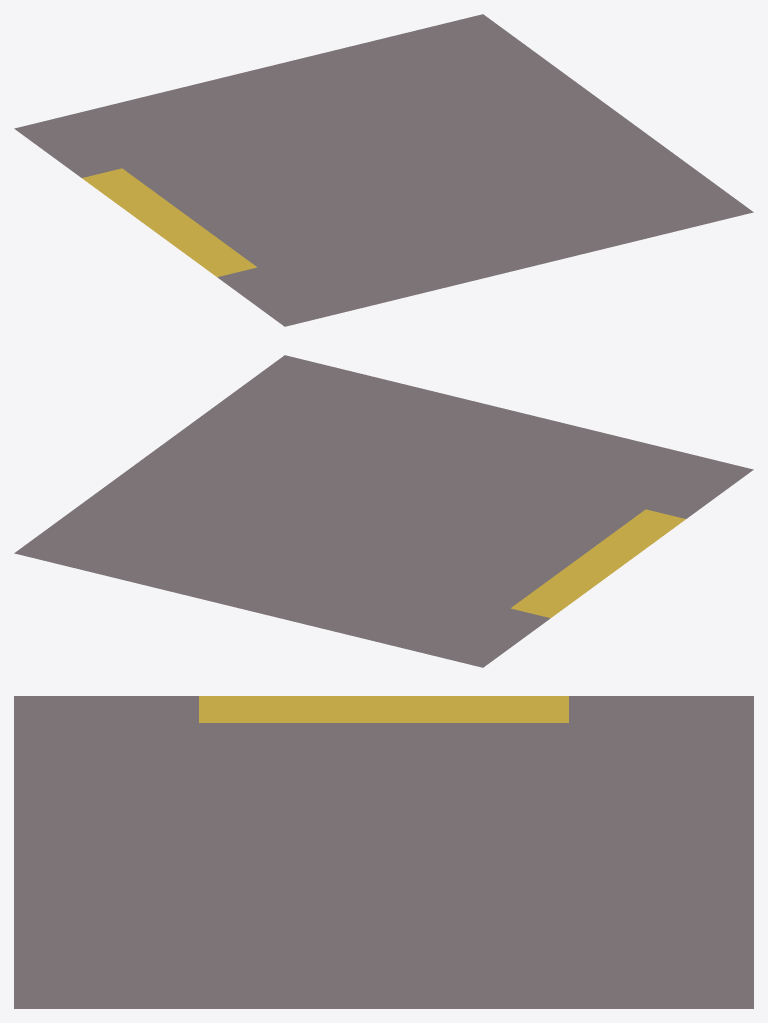
File: road.fbx
The picture shows the model from 3 angles, top to bottom: view 1: azimuth 30°, elevation 25°; view 2: azimuth 150°, elevation 25°; view 3: azimuth 270°, elevation 25°; orthographic projection. The views are drawn at different scales.
Parts seen in each view (by area): view 1: Road; view 2: Road; view 3: Road.
Part boxes in pixels (bbox=[...]): Road: bbox=[14, 14, 753, 326]; Road: bbox=[14, 355, 753, 667]; Road: bbox=[14, 696, 753, 1008].
Size of the model in its own units: 150 by 3.33e-14 by 150.
